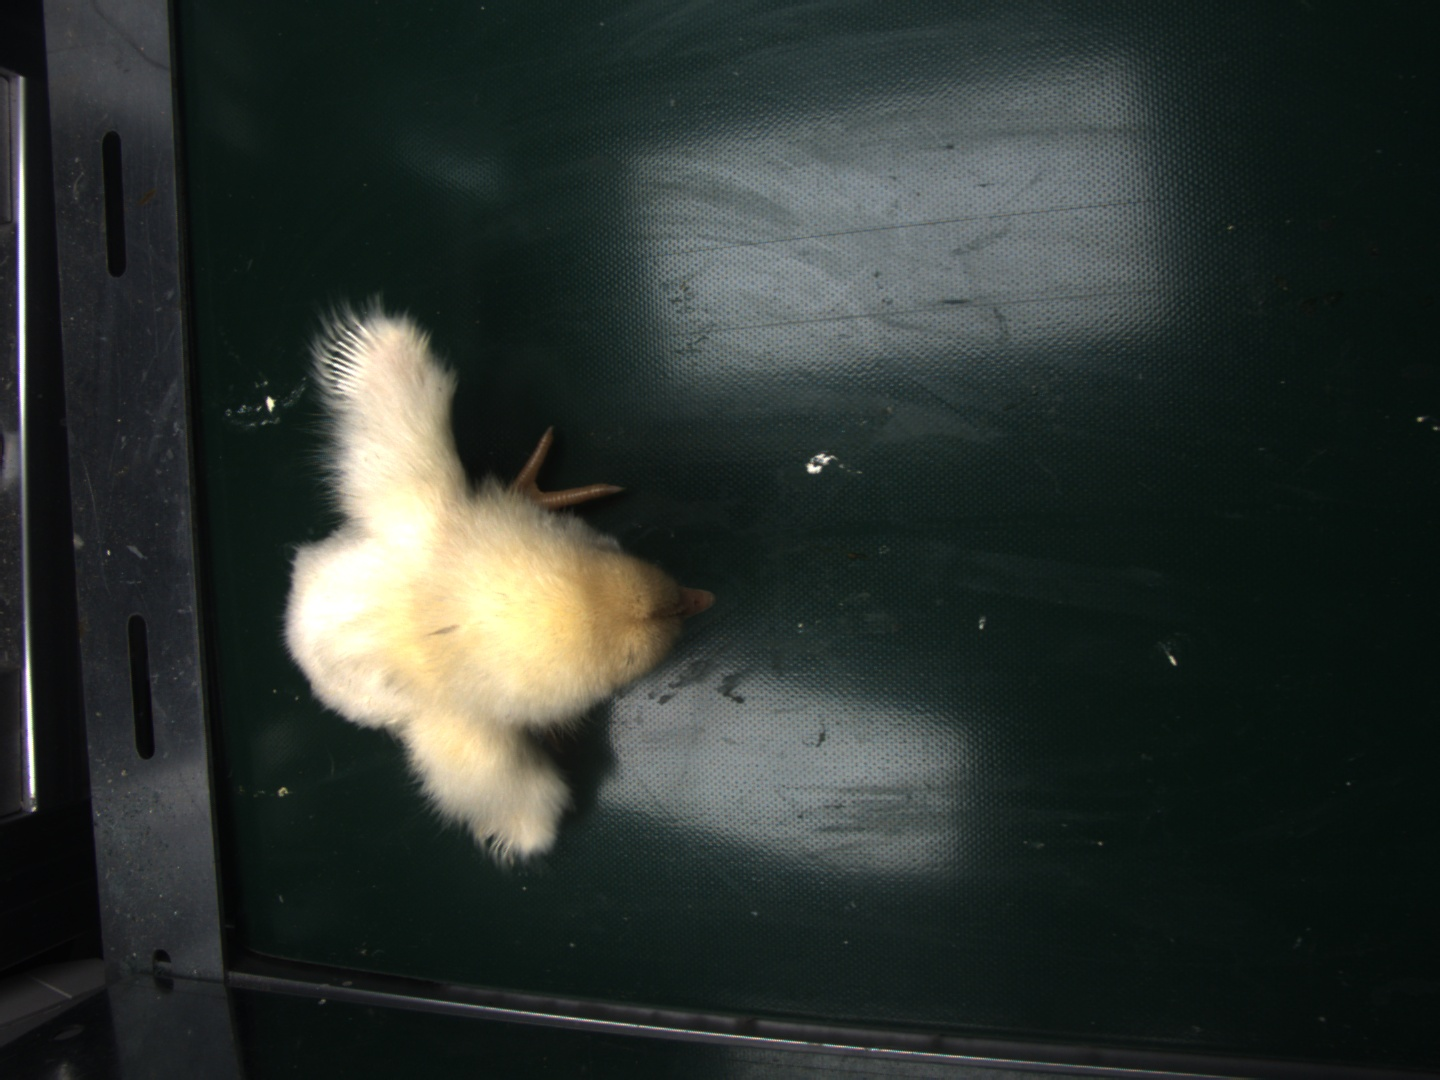male: (319, 320, 381, 397)
